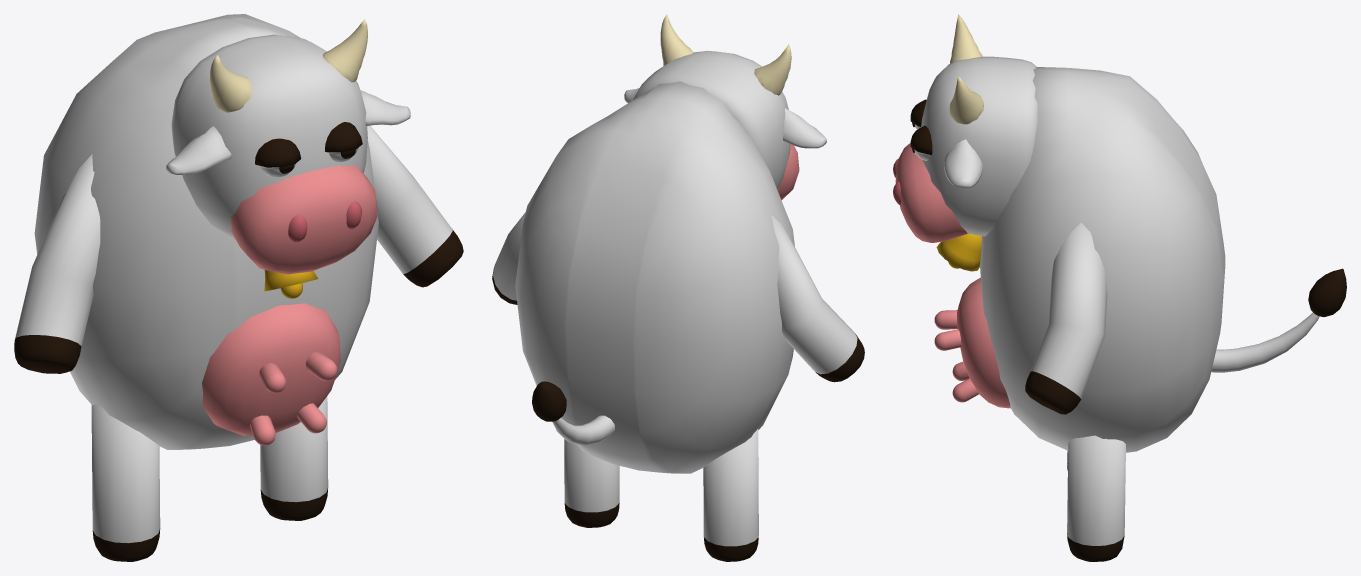
Rendered from Cow2.fbx.
The picture shows the model from 3 angles, left to right: view 1: azimuth 30°, elevation 25°; view 2: azimuth 150°, elevation 25°; view 3: azimuth 270°, elevation 25°; orthographic projection. The views are drawn at different scales.
Parts seen in each view (by area): view 1: Cow; view 2: Cow; view 3: Cow.
Boxes of the visible parts, x1,y1,x2,y2 form: Cow: [14, 14, 463, 561]; Cow: [492, 14, 864, 561]; Cow: [893, 14, 1346, 561].
Size of the model in its own units: 182 by 219 by 190.
